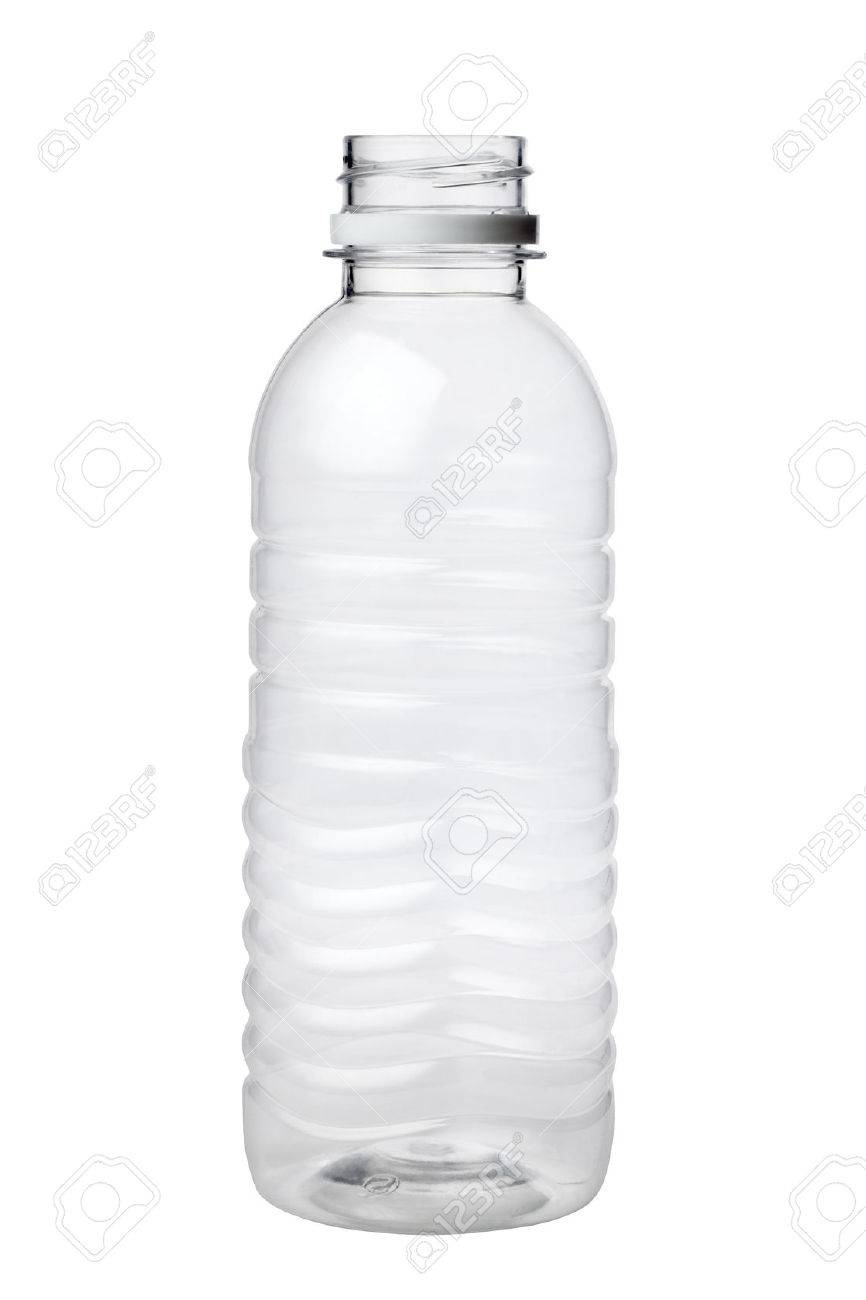emptybottle: (251, 132, 612, 1232)
